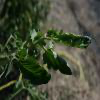Tomato leaf: (16, 54, 51, 87), (53, 28, 93, 51), (43, 47, 73, 76)
